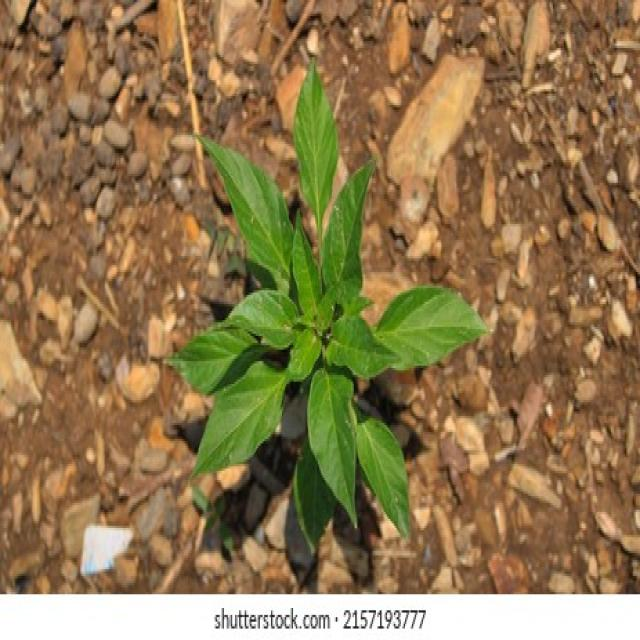Alluvial Soil: (21, 44, 170, 476), (488, 106, 621, 518)
